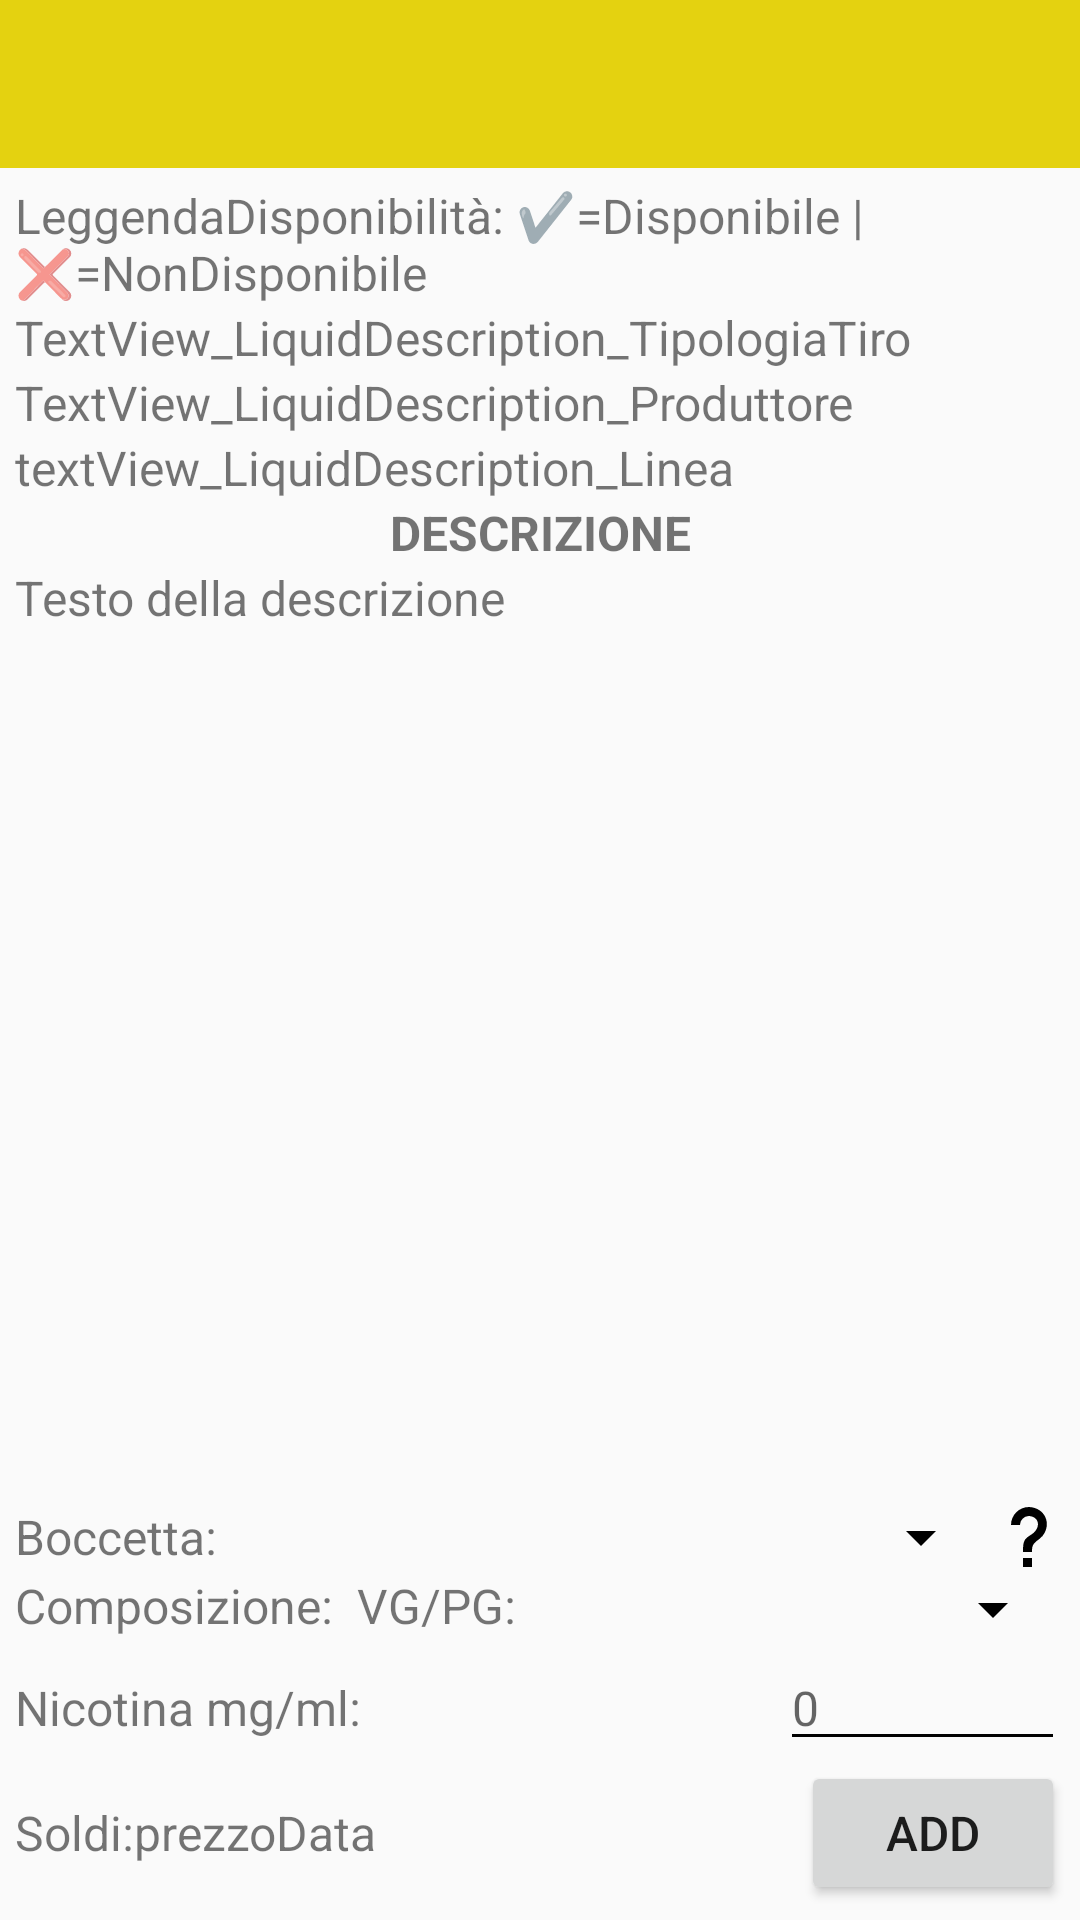

Named icons in this screenshot (1080*1920) and their bounding boxes, (x1, y1, x2, y2):
help: (1011, 1507, 1047, 1567)
